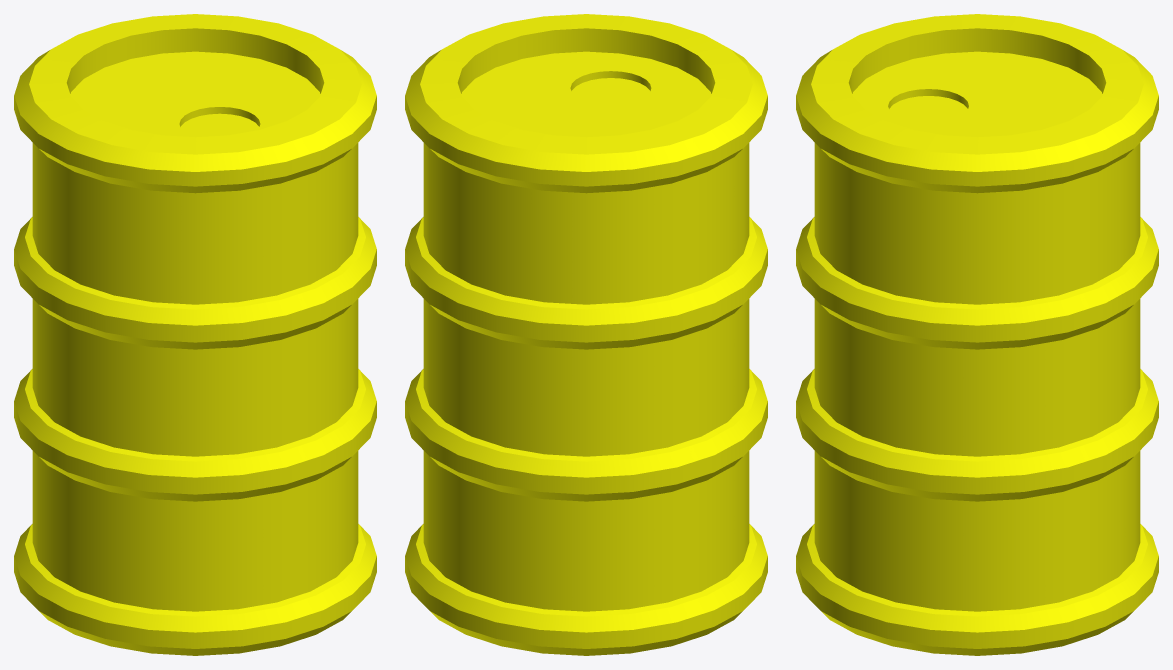
The picture shows the model from 3 angles, left to right: view 1: azimuth 30°, elevation 25°; view 2: azimuth 150°, elevation 25°; view 3: azimuth 270°, elevation 25°; orthographic projection.
Visible parts, largest first — view 1: military_oil; view 2: military_oil; view 3: military_oil.
Boxes of the visible parts, <box> form: military_oil: <box>14,14,376,655</box>; military_oil: <box>405,14,767,655</box>; military_oil: <box>796,14,1158,655</box>.
Size of the model in its own units: 0.00729 by 0.0111 by 0.00729.
1 material, 1 textured.
